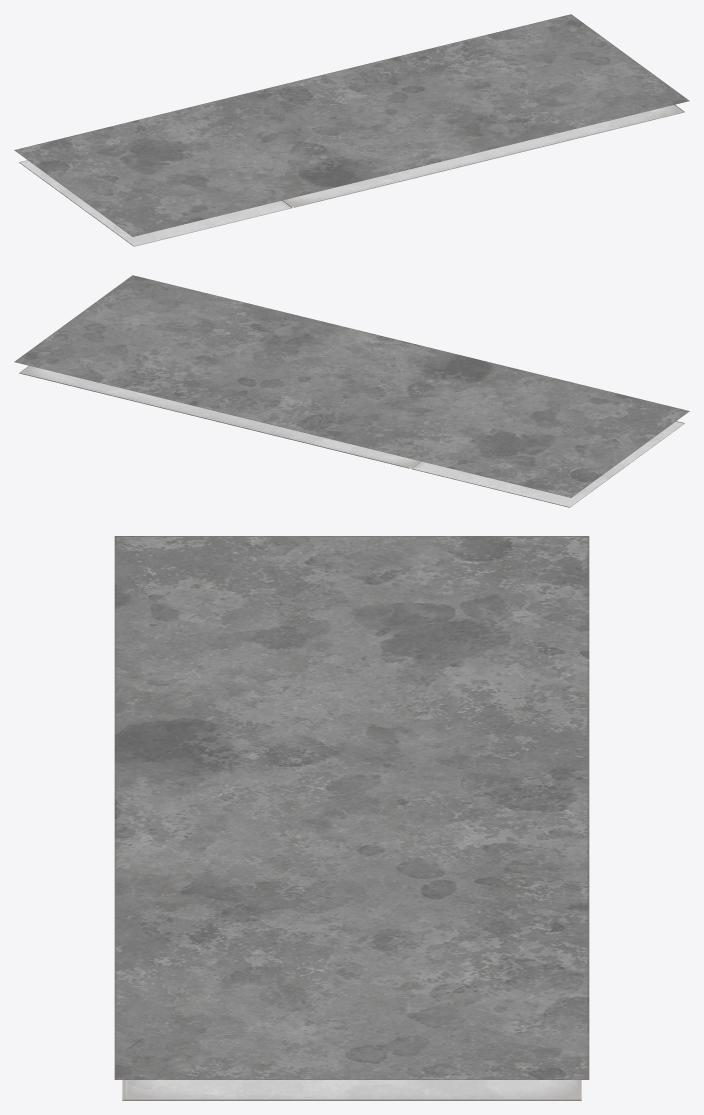
File: Ceiling.fbx
The picture shows the model from 3 angles, top to bottom: view 1: azimuth 30°, elevation 25°; view 2: azimuth 150°, elevation 25°; view 3: azimuth 270°, elevation 25°; orthographic projection. The views are drawn at different scales.
Visible parts, largest first — view 1: MeshBaker__5__mesh_mesh; view 2: MeshBaker__5__mesh_mesh; view 3: MeshBaker__5__mesh_mesh.
Boxes of the visible parts, x1,y1,x2,y2 form: MeshBaker__5__mesh_mesh: [14, 14, 689, 246]; MeshBaker__5__mesh_mesh: [14, 275, 689, 507]; MeshBaker__5__mesh_mesh: [114, 536, 589, 1100].
Bounding box in the file's own units: 2352 × 48.46 × 868.
